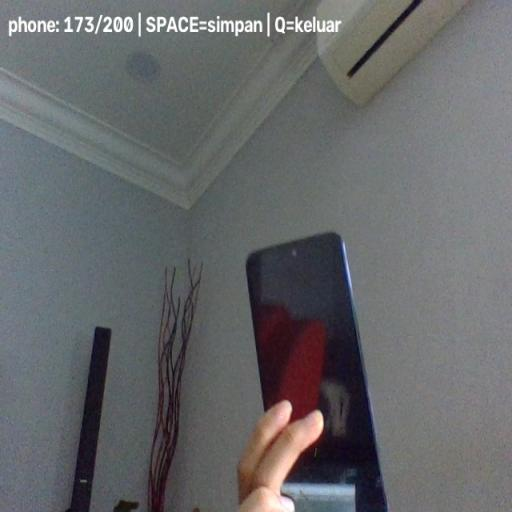Phone: (246, 231, 388, 512)
